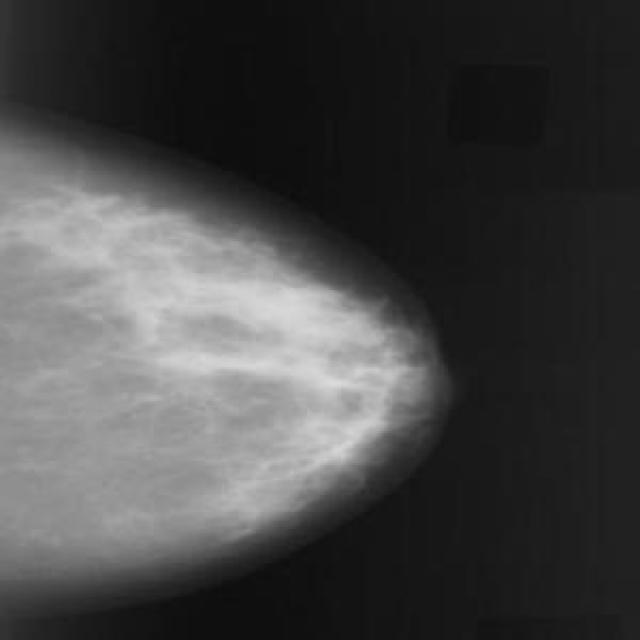tumor: (140, 256, 404, 403)
